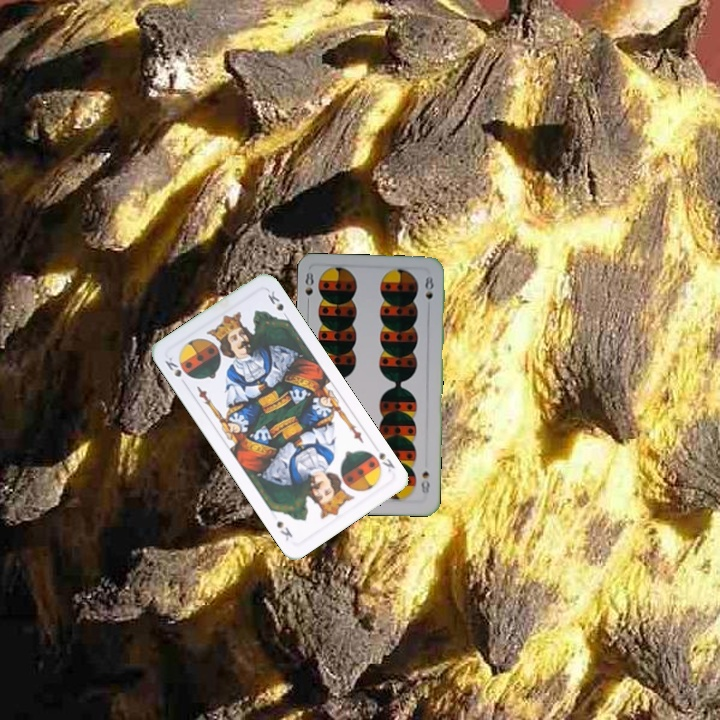S8: (301, 269, 316, 309), (417, 467, 432, 496)
SK: (161, 353, 184, 380), (375, 448, 397, 475)
